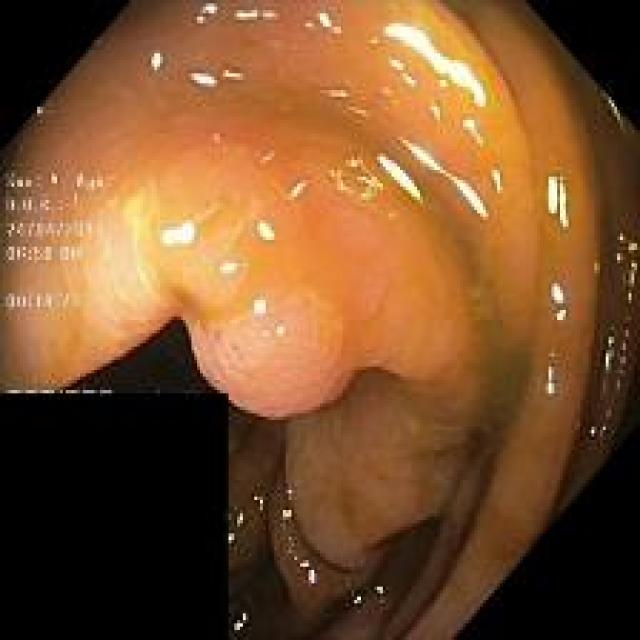Polyps: (61, 96, 488, 418)
